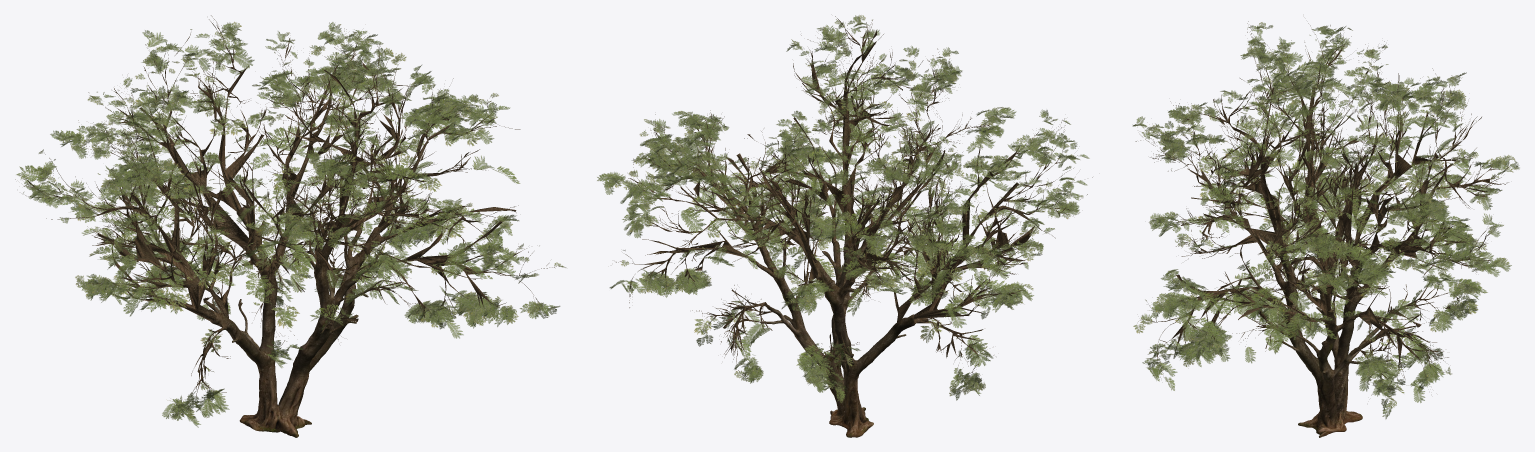
Rendered from jacaranda_tree.glb.
3 views of the same model, side by side, from view 1: azimuth 30°, elevation 25°; view 2: azimuth 150°, elevation 25°; view 3: azimuth 270°, elevation 25° (orthographic). The views are drawn at different scales.
Bounding box in the file's own units: 24.27 × 19.42 × 18.45.
3 materials, 3 textured.
